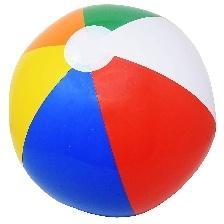Sports-Ball: (4, 0, 221, 217)
